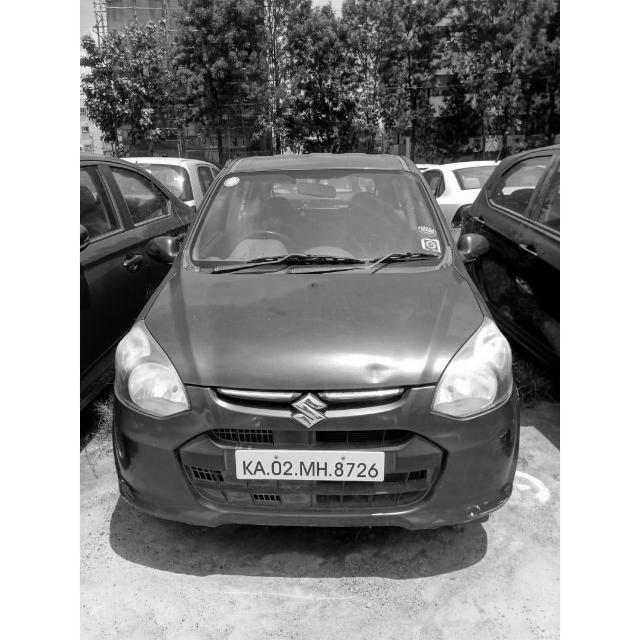bonnet-dent: (201, 257, 437, 409)
